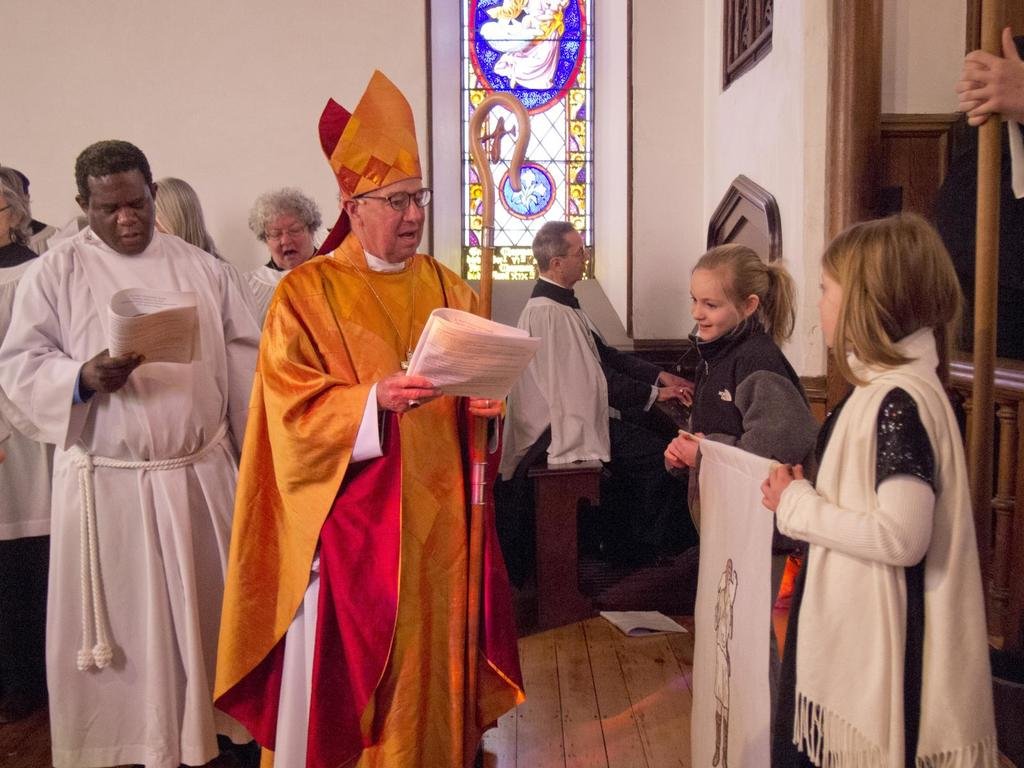Person: (0, 24, 1023, 767)
